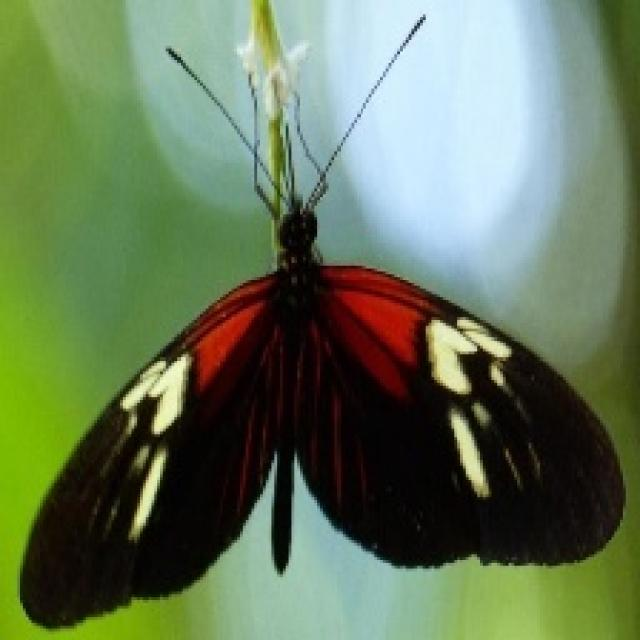butterfly: (17, 11, 626, 628)
